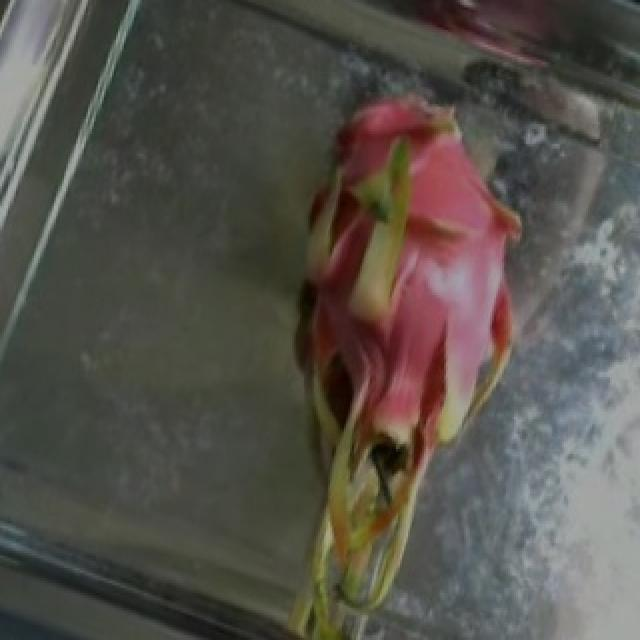fruit: (186, 40, 570, 506)
